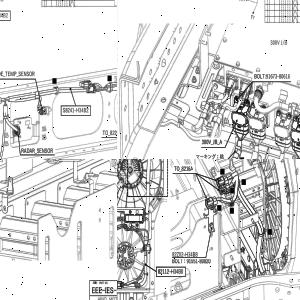PartNumber: (157, 268, 184, 275), (62, 107, 88, 113), (172, 251, 198, 257), (186, 258, 212, 264), (266, 73, 291, 79), (0, 12, 8, 17)
